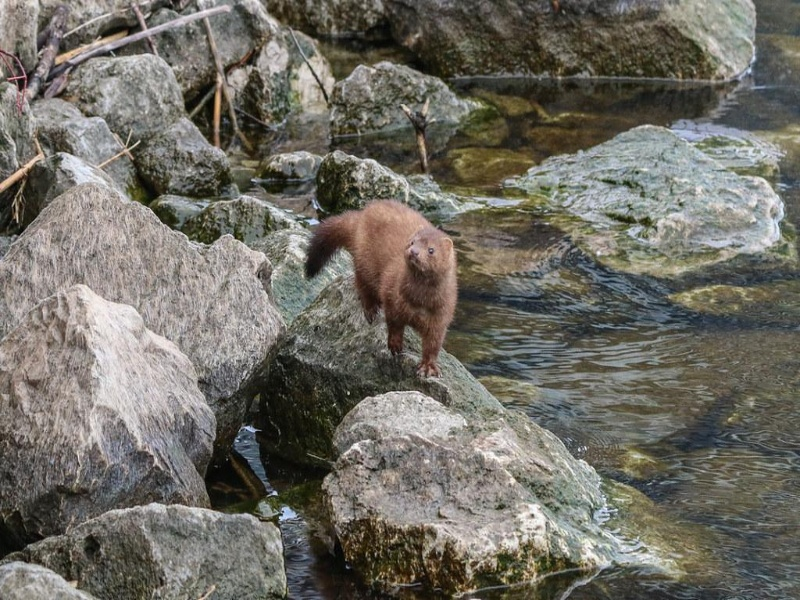minkish: (301, 198, 462, 382)
